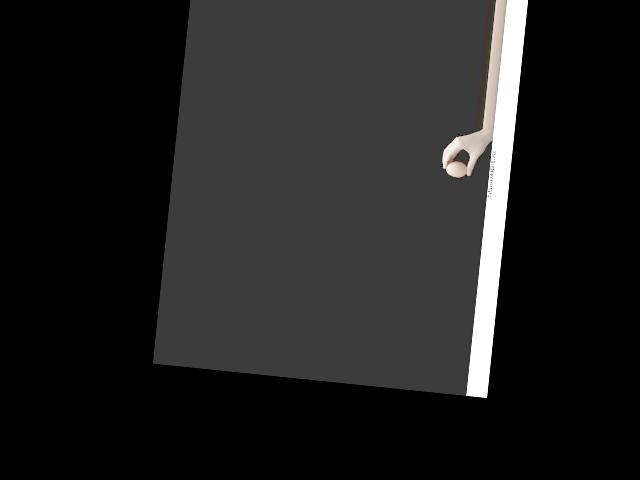egg: (444, 160, 467, 178)
